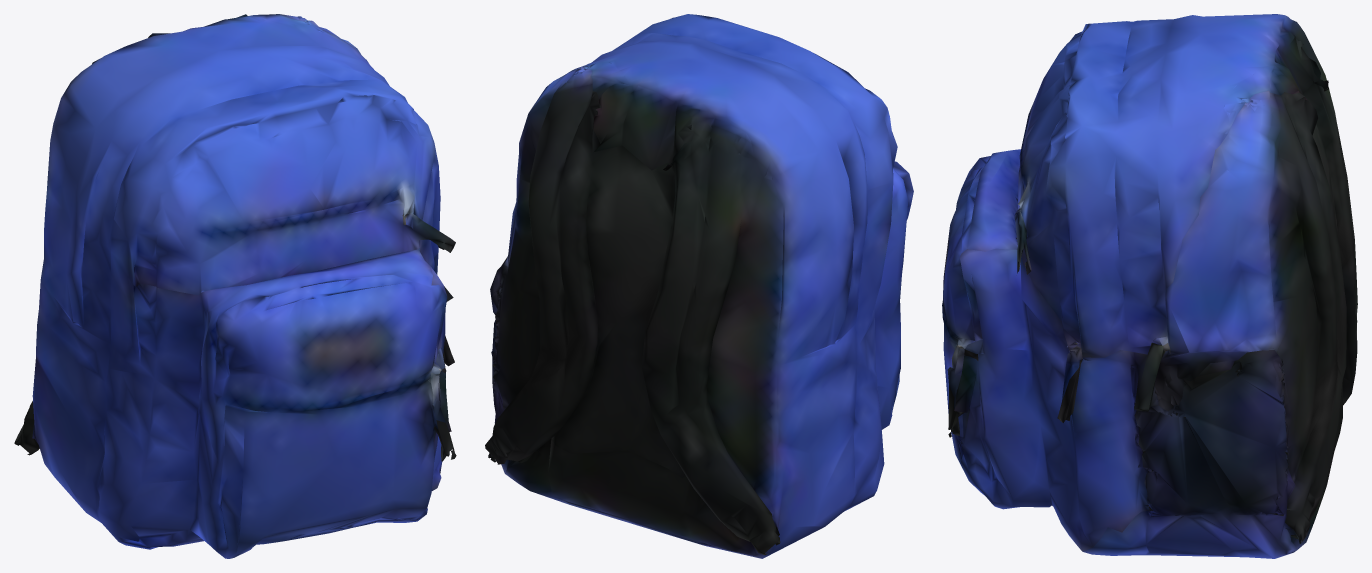
The model's file is Jansport_School_Backpack_Blue_Streak-medium.glb.
3 renders of one model, left to right at view 1: azimuth 30°, elevation 25°; view 2: azimuth 150°, elevation 25°; view 3: azimuth 270°, elevation 25°, orthographic. The views are drawn at different scales.
Visible parts, largest first — view 1: Jansport_School_Backpack_Blue_Streak; view 2: Jansport_School_Backpack_Blue_Streak; view 3: Jansport_School_Backpack_Blue_Streak.
Part boxes in pixels (x1,y1,x2,y2): Jansport_School_Backpack_Blue_Streak: [14, 14, 456, 558]; Jansport_School_Backpack_Blue_Streak: [485, 14, 913, 558]; Jansport_School_Backpack_Blue_Streak: [942, 14, 1357, 558].
Size of the model in its own units: 0.356 by 0.4397 by 0.3693.
1 material, 1 textured.
